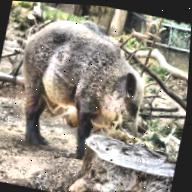boar: (0, 0, 181, 181)
